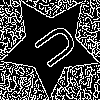U: (25, 20, 81, 76)
